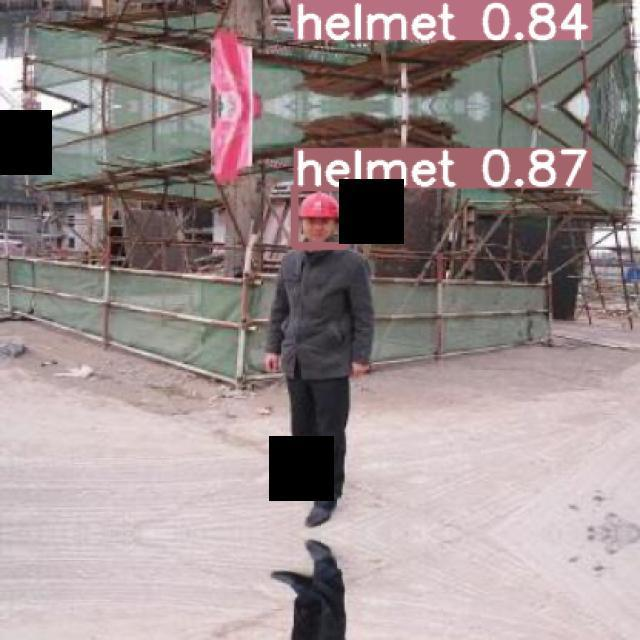red helmet: (284, 179, 354, 229)
